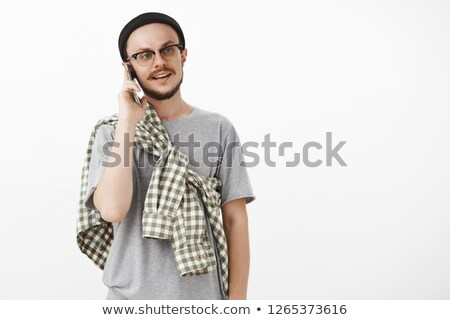phone: (116, 61, 144, 106)
talk: (114, 36, 184, 123)
